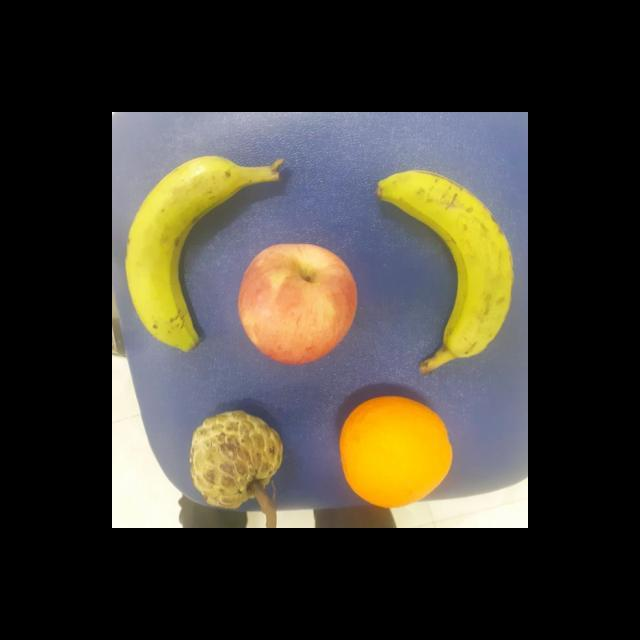Sakya fruit: (184, 404, 288, 510)
apple: (233, 242, 361, 369)
banana: (369, 167, 523, 361), (124, 152, 242, 355)
orange: (336, 394, 455, 512)
